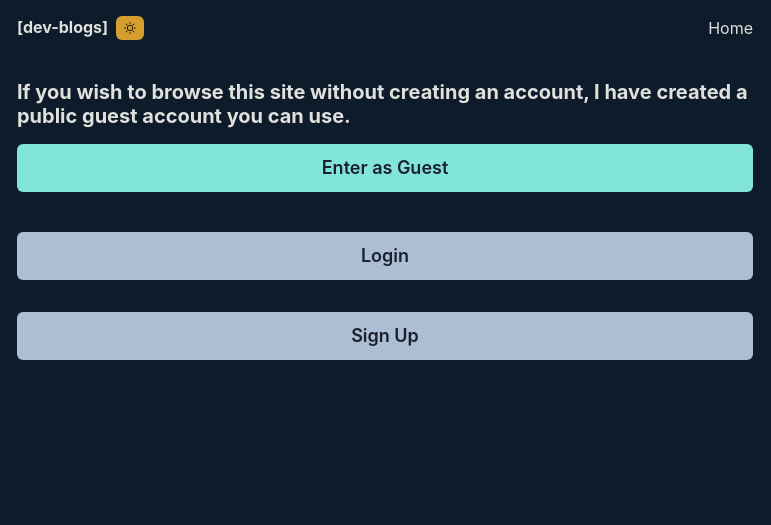
Test: Blog app › login › fails with the incorrect credentials
Click the button "Login" at (385, 256), box [17, 232, 753, 280]
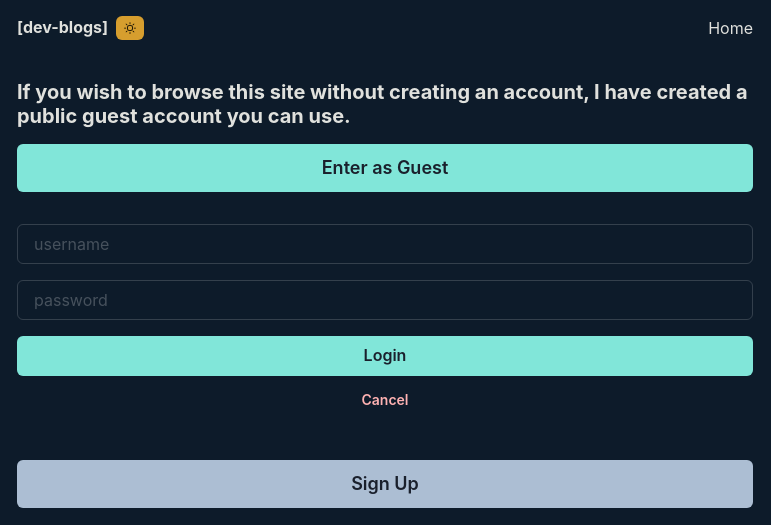
Type "tester1" into the field with id "username-login" at (385, 244), box [17, 224, 753, 264]
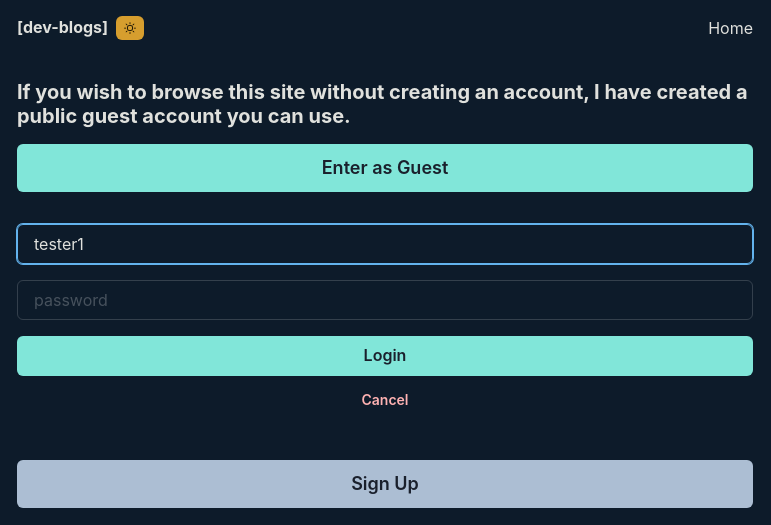
Type "wrong" into the password field with placeholder "password" at (385, 300), box [17, 280, 753, 320]
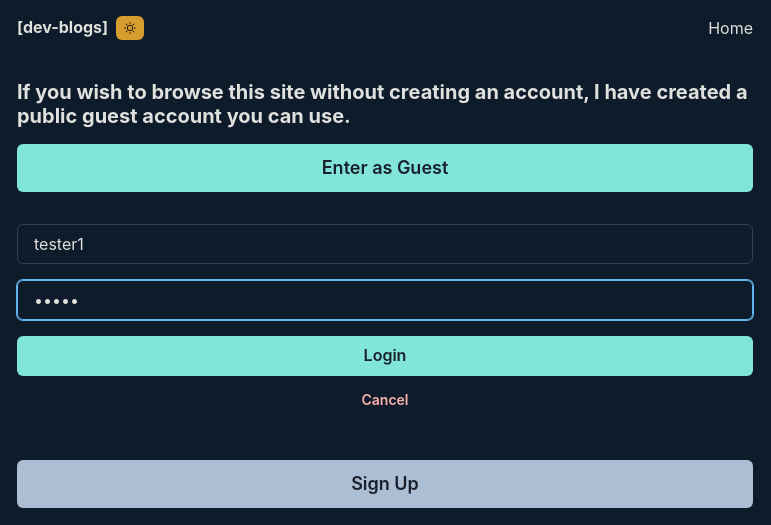
Click the button with id "loginSubmitBtn" at (385, 356), box [17, 336, 753, 376]
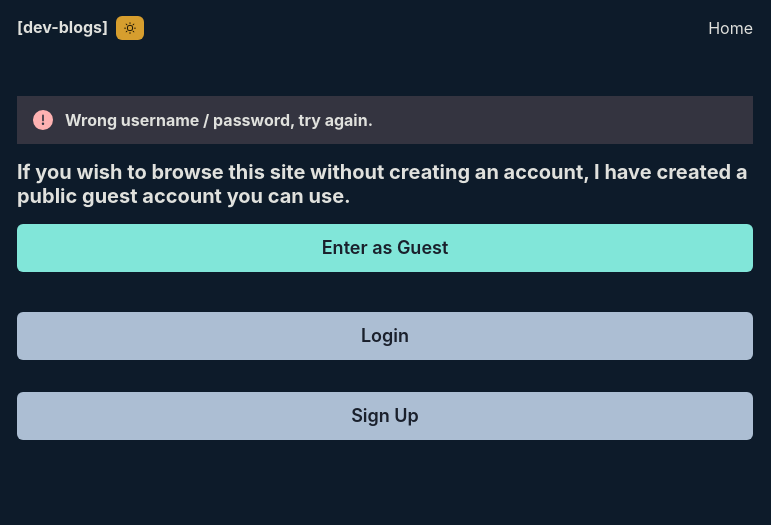
expect the text with class "error" shows "Wrong username / password": met, box [65, 110, 373, 130]
